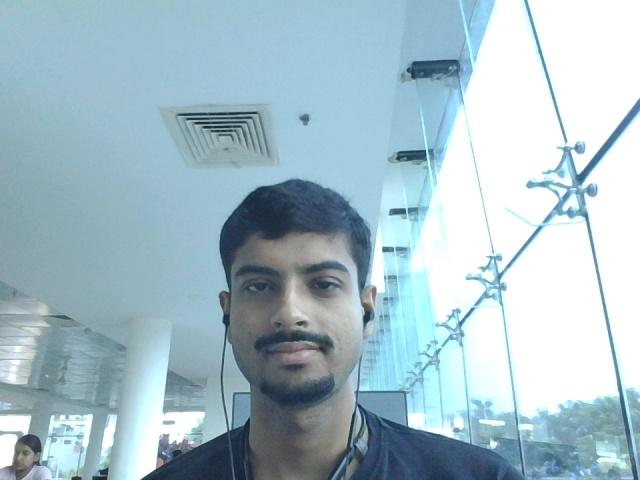confident: (173, 159, 414, 450)
